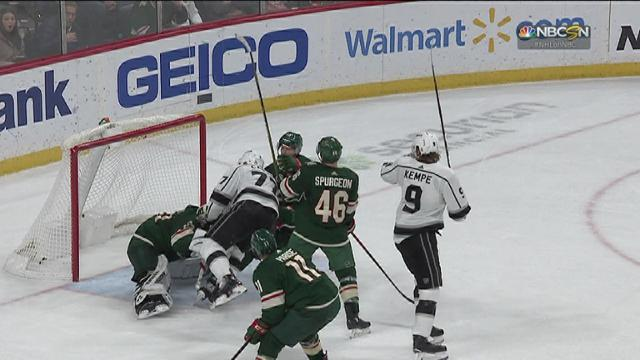geico: (107, 31, 319, 112)
